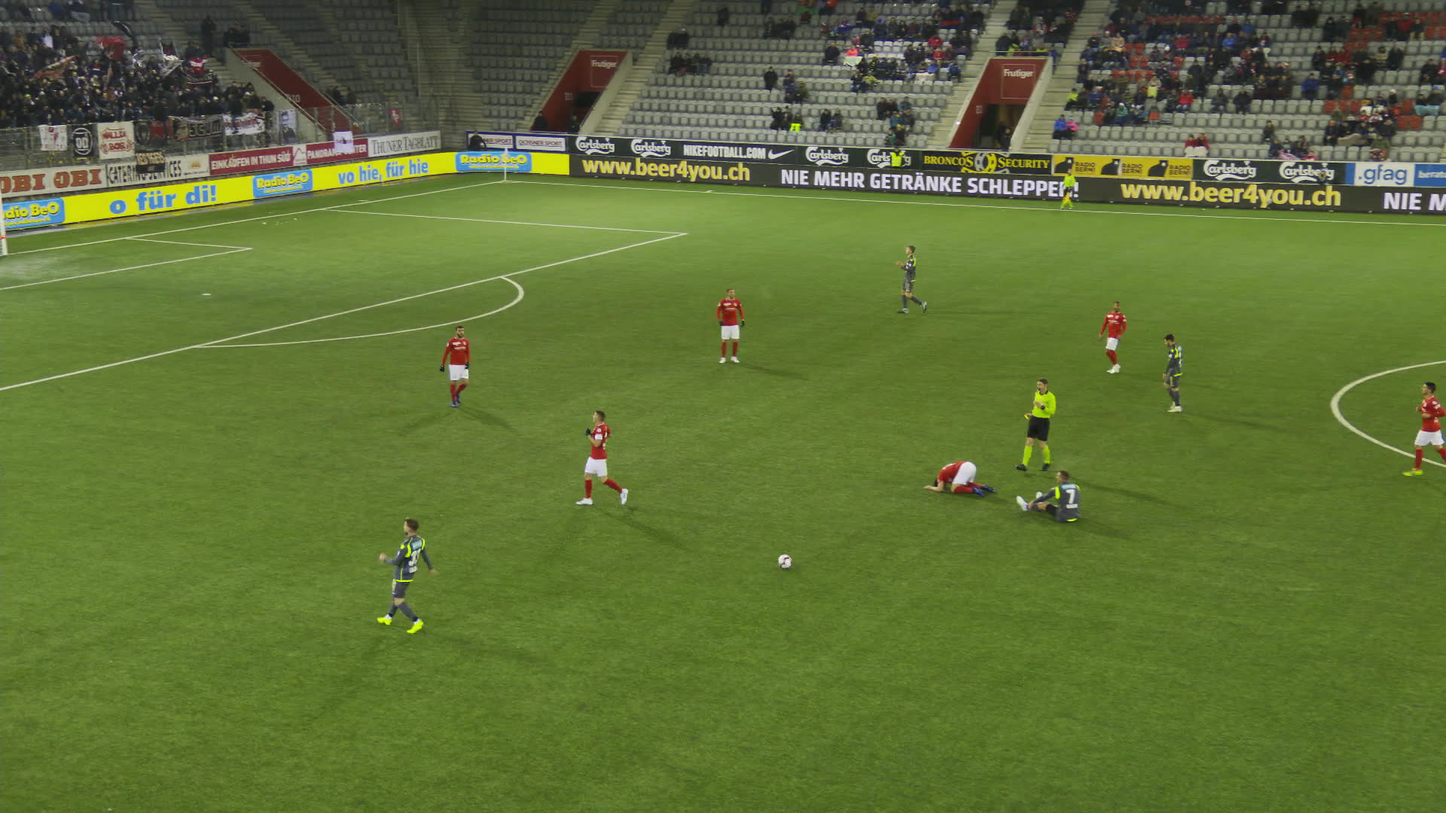ball: (777, 553, 792, 568)
player: (371, 516, 442, 635), (573, 406, 627, 508), (1012, 467, 1082, 524), (1409, 379, 1445, 483), (437, 324, 475, 410), (920, 456, 997, 498), (1152, 332, 1189, 413), (711, 285, 746, 364), (1093, 300, 1130, 374), (891, 242, 928, 315), (0, 231, 7, 242)
referee: (1015, 378, 1057, 473), (1054, 167, 1075, 210)
